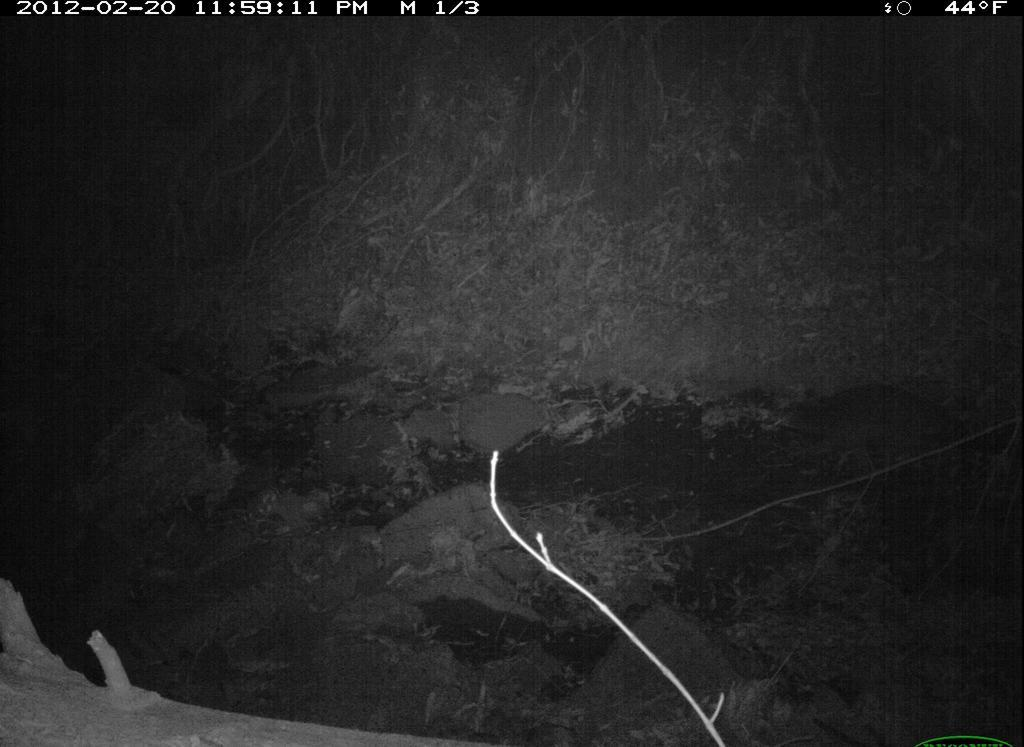raccoon: (777, 372, 972, 469)
